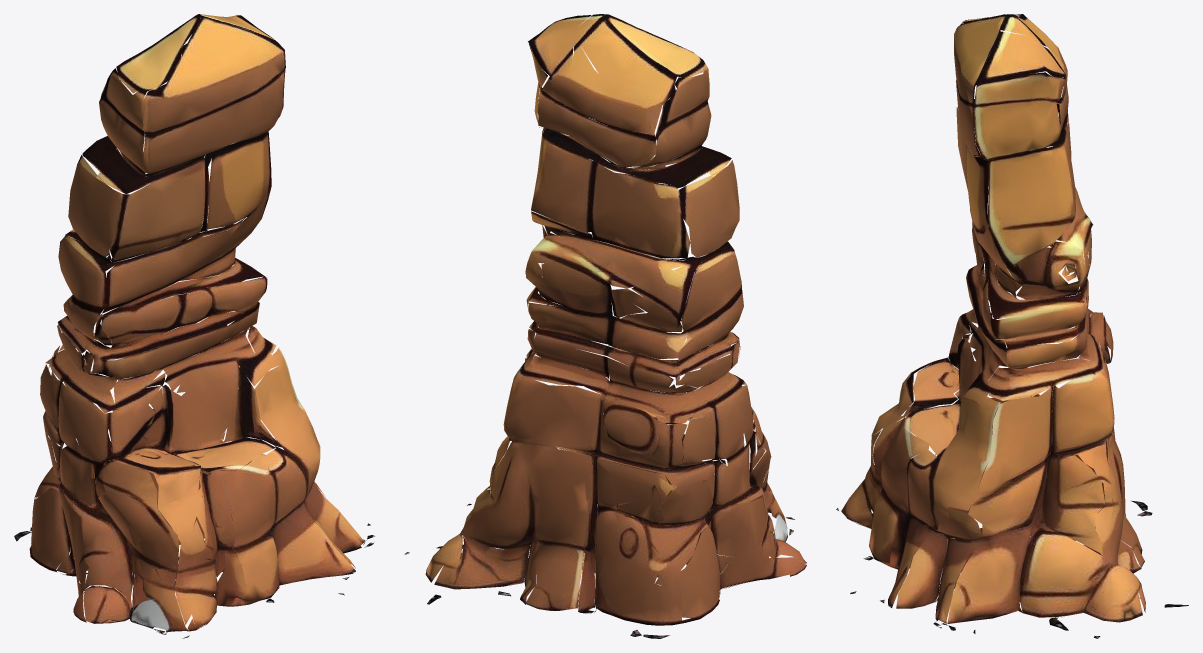
File: kanyon_kaya_b.glb
3 renders of one model, left to right at view 1: azimuth 30°, elevation 25°; view 2: azimuth 150°, elevation 25°; view 3: azimuth 270°, elevation 25°, orthographic.
Visible parts, largest first — view 1: geometry_0; view 2: geometry_0; view 3: geometry_0.
Boxes of the visible parts, left/top/right/bottom form: geometry_0: left=14, top=14, right=375, bottom=638; geometry_0: left=404, top=14, right=806, bottom=638; geometry_0: left=836, top=14, right=1188, bottom=638.
Size of the model in its own units: 0.6079 by 1 by 0.5836.
1 material, 1 textured.
